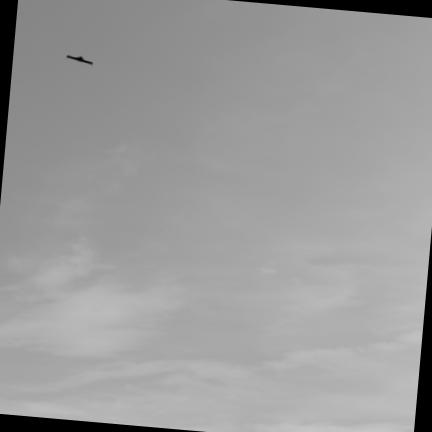Shahed: (67, 56, 92, 64)
